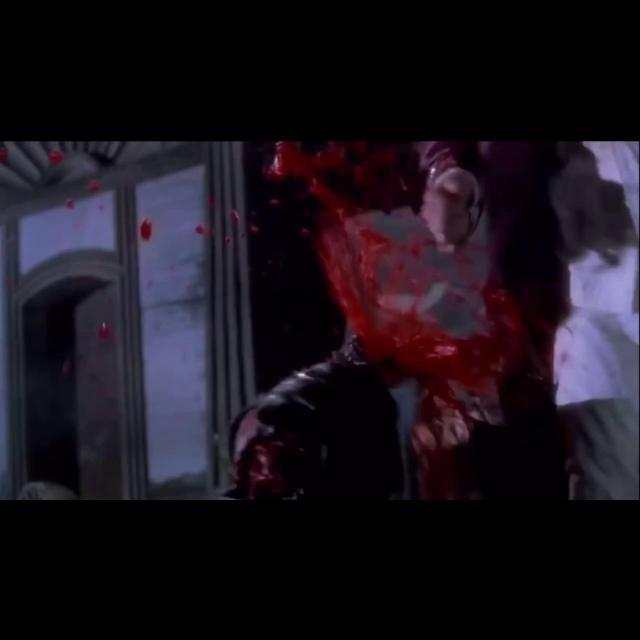blood: (259, 141, 572, 500), (211, 388, 310, 500), (97, 310, 117, 342), (140, 218, 152, 240), (48, 148, 64, 164), (194, 224, 213, 234), (86, 178, 99, 191), (230, 209, 240, 222), (249, 224, 259, 233), (269, 198, 280, 206), (65, 200, 74, 208), (208, 196, 214, 205), (225, 236, 232, 243)
